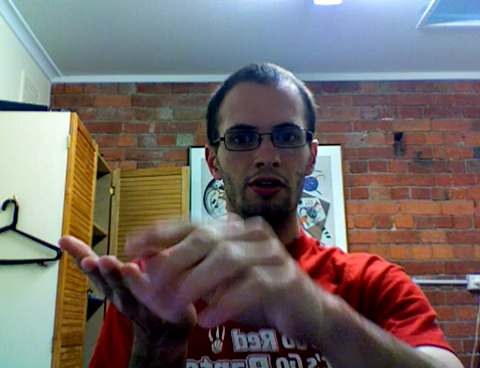H: (58, 209, 326, 347)
